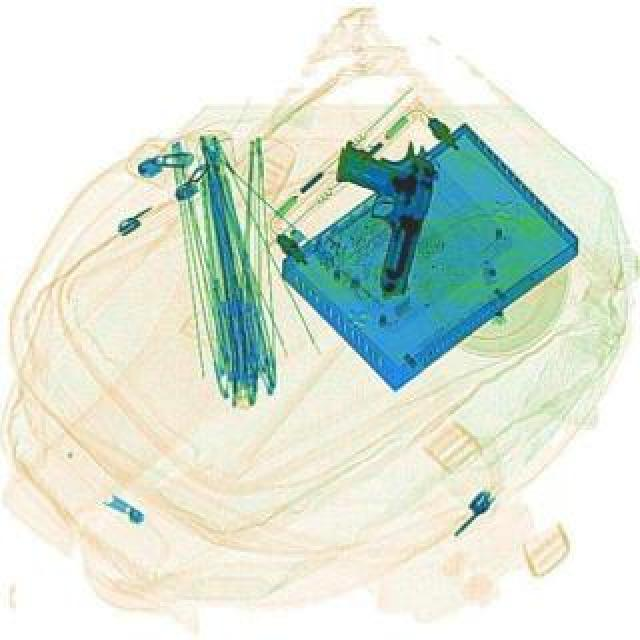gun: (308, 130, 440, 302)
